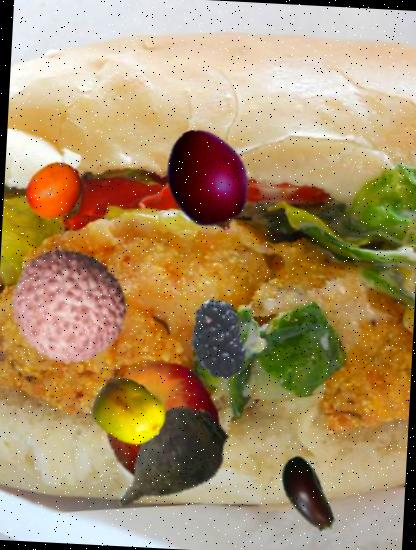Apricot: (24, 160, 86, 222)
Beetroot: (99, 390, 238, 530)
Eggplant: (262, 452, 352, 540)
Lychee: (5, 243, 132, 370)
Mulberry: (178, 298, 260, 380)
Nectarine: (96, 358, 226, 488)
Pomelo: (90, 373, 168, 451)
Tamarillo: (153, 125, 264, 236)
